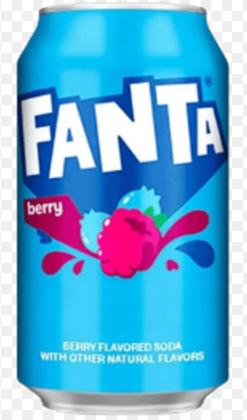brand: (12, 62, 229, 186)
product_name: (21, 198, 72, 219)
